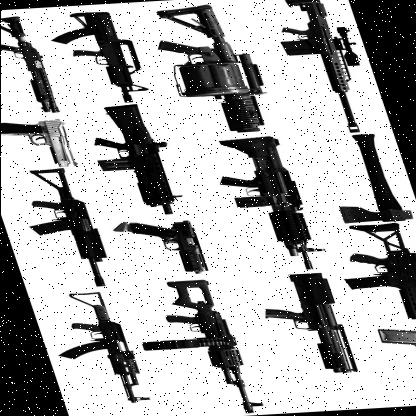rifle: (131, 278, 267, 416), (256, 0, 391, 134), (202, 134, 330, 274), (70, 101, 207, 219), (34, 287, 158, 414), (6, 156, 116, 290), (246, 269, 364, 379), (40, 9, 158, 107), (0, 15, 69, 117)
